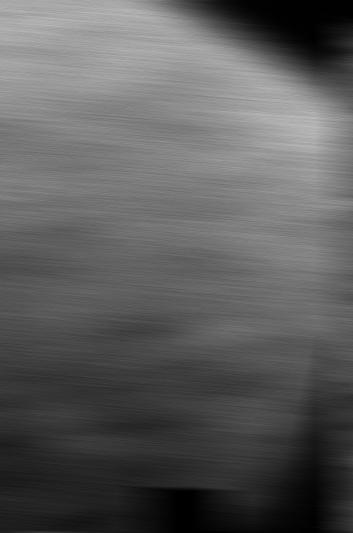Airbag: (0, 0, 353, 533), (337, 0, 353, 532), (0, 531, 352, 533), (337, 531, 353, 533)
